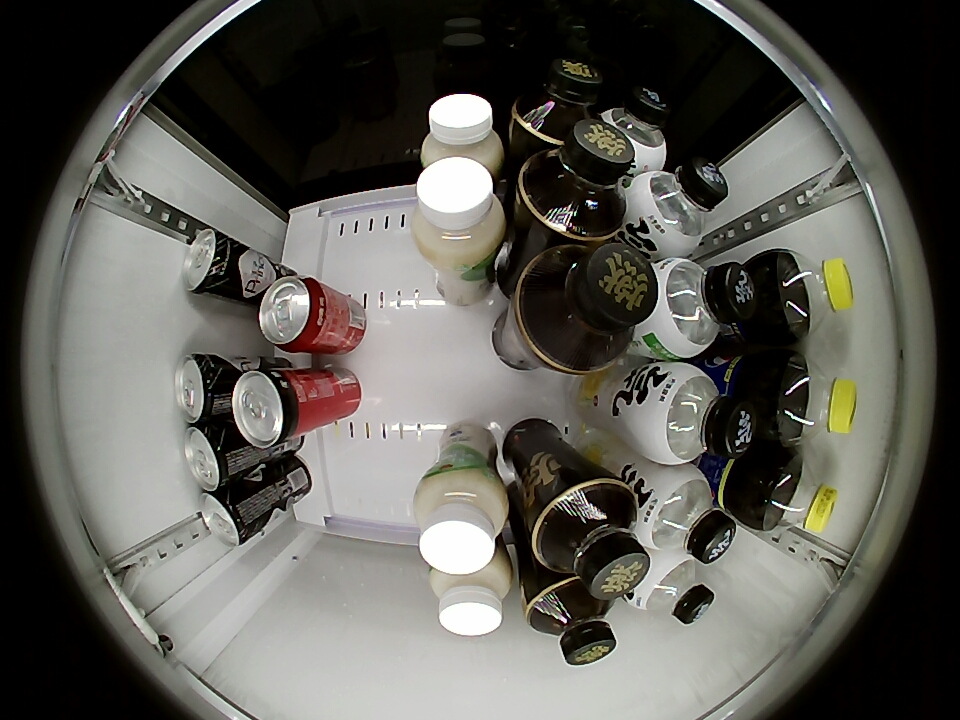baishikele: (775, 354, 858, 445), (771, 252, 854, 338), (757, 453, 838, 535)
kele: (258, 274, 329, 352)
lingdukele: (232, 366, 308, 450)
qingdaowangzi-1: (183, 423, 242, 491), (174, 353, 231, 423), (183, 230, 241, 298), (198, 489, 258, 547)
rancha-1: (514, 244, 659, 374), (531, 479, 650, 599), (518, 121, 636, 240), (524, 577, 617, 666), (512, 58, 601, 146)
yousuanru: (410, 157, 512, 272), (413, 466, 511, 576), (428, 550, 515, 636), (420, 94, 504, 179)
yuanqishui: (637, 362, 757, 465), (644, 257, 757, 361), (633, 464, 736, 564), (626, 157, 730, 256), (628, 550, 715, 624), (596, 85, 671, 168)
